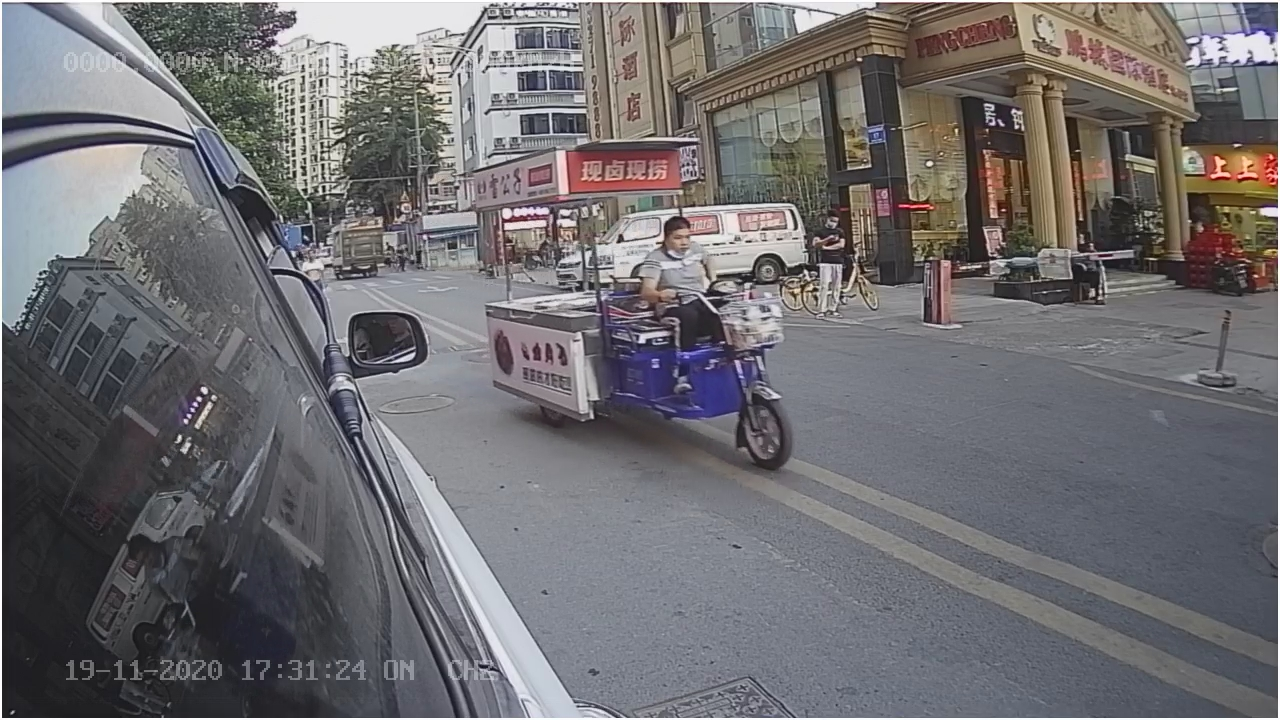person: (634, 218, 719, 294)
